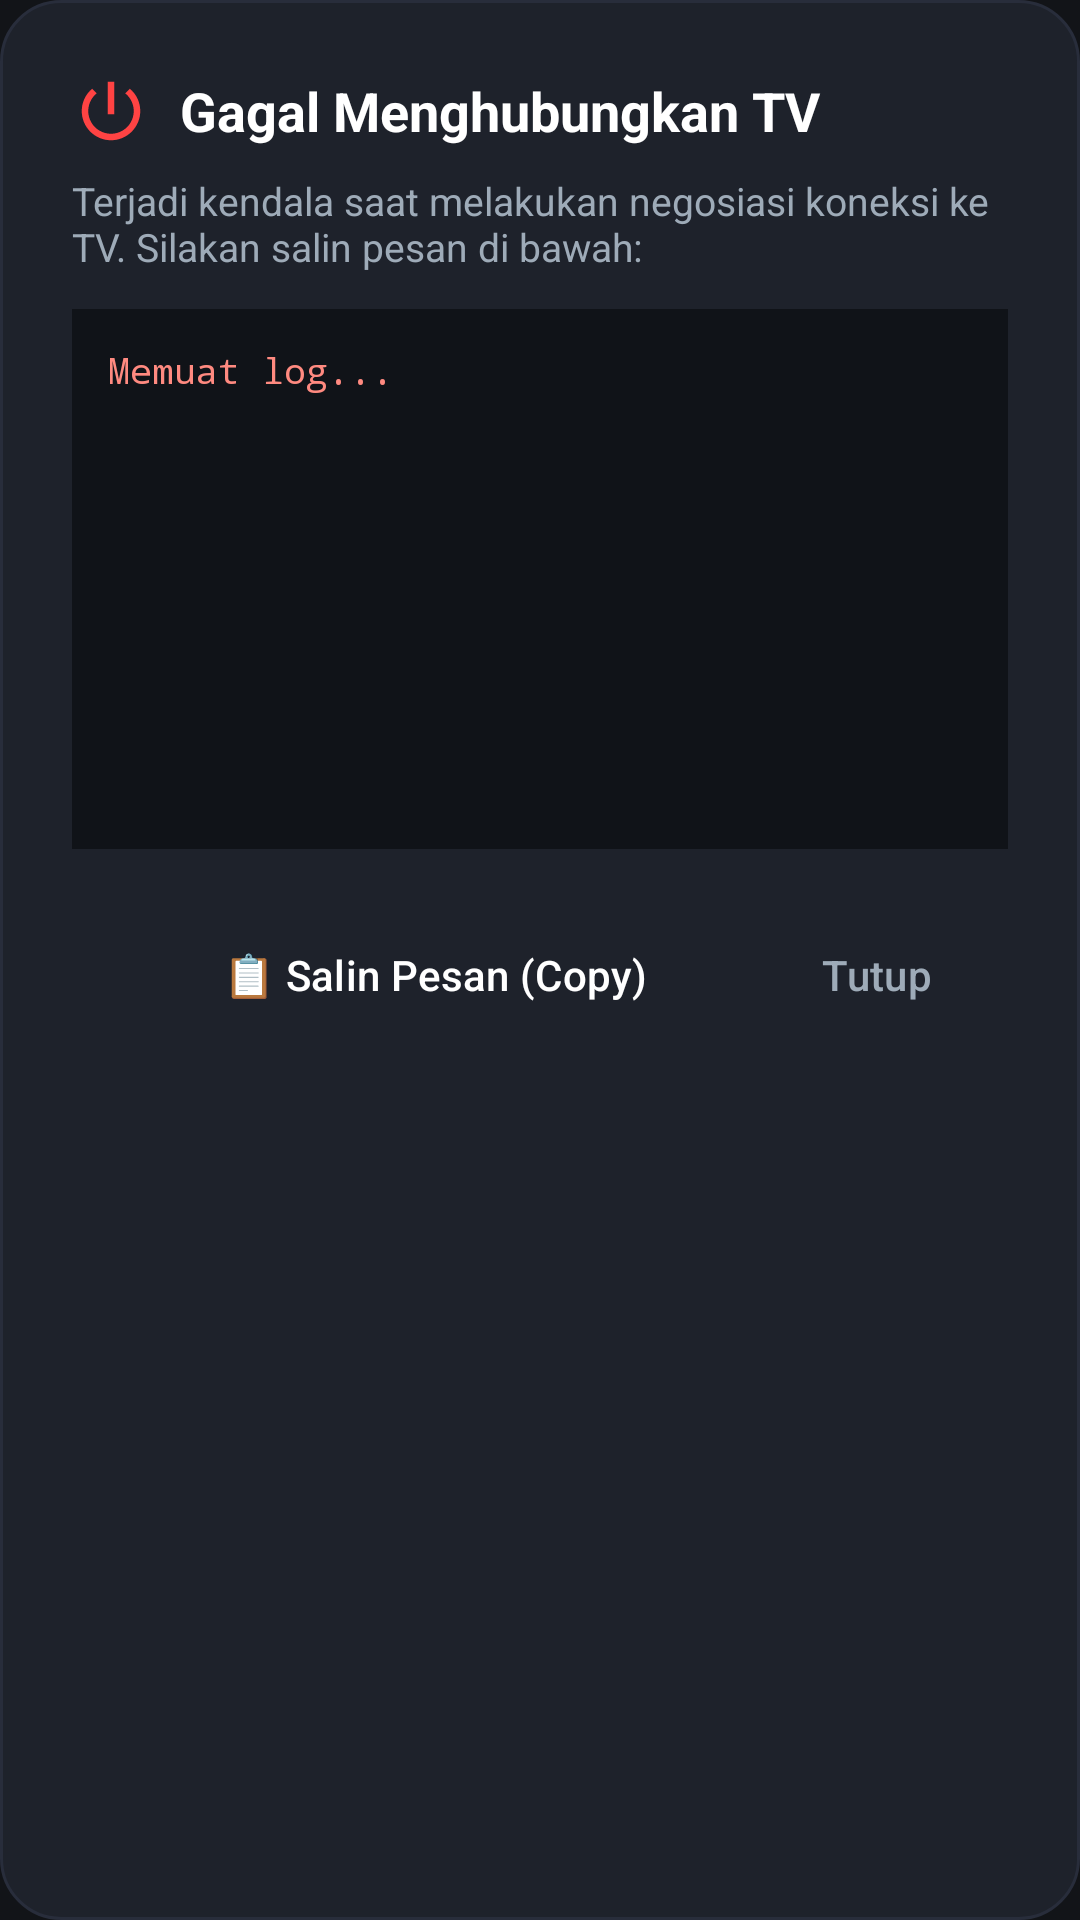

Locate icon controls on the screen. Image size 1080w x 1920h, boxes as {"x1": x1, "y1": y1, "x2": x2, "y2": y2}.
power: {"x1": 81, "y1": 81, "x2": 141, "y2": 141}
